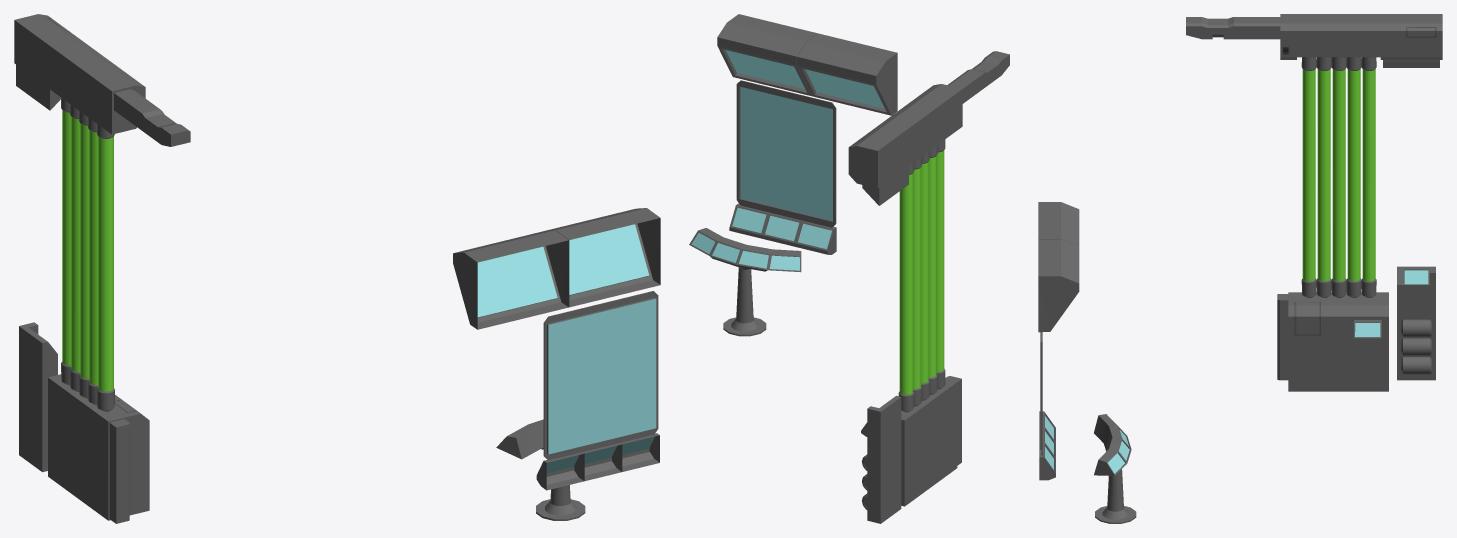
Rendered from lab.fbx.
The picture shows the model from 3 angles, left to right: view 1: azimuth 30°, elevation 25°; view 2: azimuth 150°, elevation 25°; view 3: azimuth 270°, elevation 25°; orthographic projection. The views are drawn at different scales.
Visible parts, largest first — view 1: Screen 01, Screen 02, Tubes 01, Props 06, Props 04, Props 09, Panel 02, Panel 01; view 2: Screen 01, Screen 02, Tubes 01, Props 04, Props 06, Panel 01, Props 09, Panel 02; view 3: Tubes 01, Props 06, Props 04, Screen 02, Props 09, Panel 01, Props 10, Panel 02.
Part boxes in pixels (x1,y1,x2,y2): Screen 01: (543, 291, 658, 460); Screen 02: (453, 208, 660, 329); Tubes 01: (61, 98, 114, 411); Props 06: (48, 374, 149, 523); Props 04: (14, 14, 190, 146); Props 09: (19, 322, 57, 472); Panel 02: (536, 433, 659, 490); Panel 01: (496, 419, 585, 520); Screen 01: (736, 80, 836, 227); Screen 02: (717, 14, 897, 115); Tubes 01: (898, 139, 945, 412); Props 04: (848, 51, 1009, 205); Props 06: (861, 376, 961, 506); Panel 01: (689, 228, 801, 336); Props 09: (867, 395, 901, 523); Panel 02: (729, 203, 836, 254); Tubes 01: (1301, 57, 1376, 297); Props 06: (1277, 292, 1388, 391); Props 04: (1186, 14, 1442, 67); Screen 02: (1038, 202, 1079, 332); Props 09: (1397, 266, 1435, 380); Panel 01: (1094, 414, 1136, 523); Props 10: (1401, 319, 1431, 374); Panel 02: (1039, 411, 1055, 480).
Size of the model in its own units: 988 by 987 by 1004.
3 materials, 1 textured.
